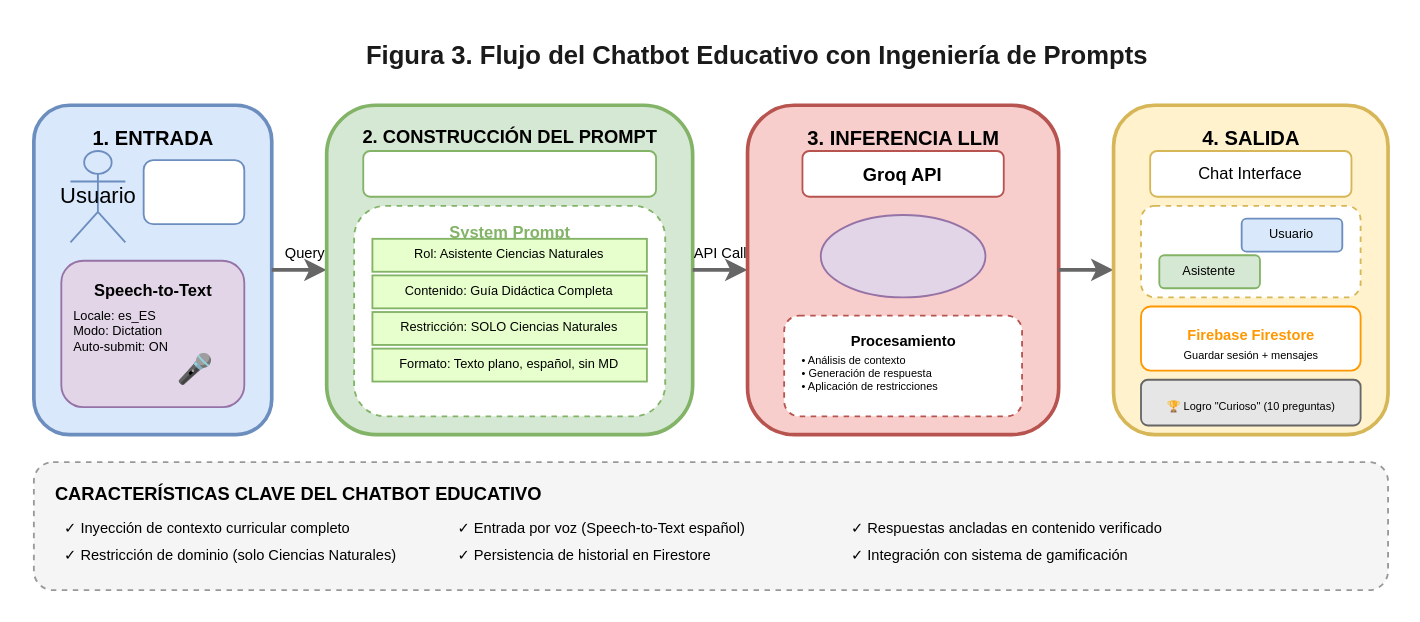
The diagram is 1420 pixels wide and 622 high, and some of its shapes have lost their labels. The centre of each missing label's shape, as x and y in pixels:
Entrada Texto: point (193, 191)
GuiaContextService: point (508, 173)
LLaMA 3.3 70B Versatile: point (902, 255)
